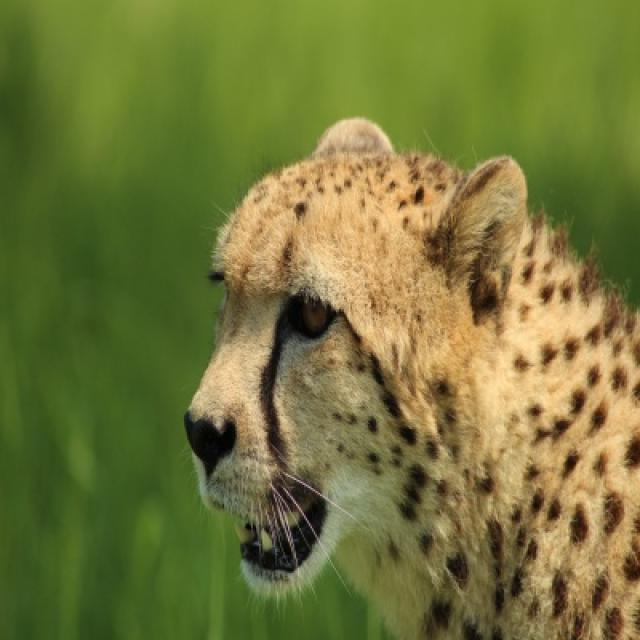Cheetah: (184, 118, 638, 638)
